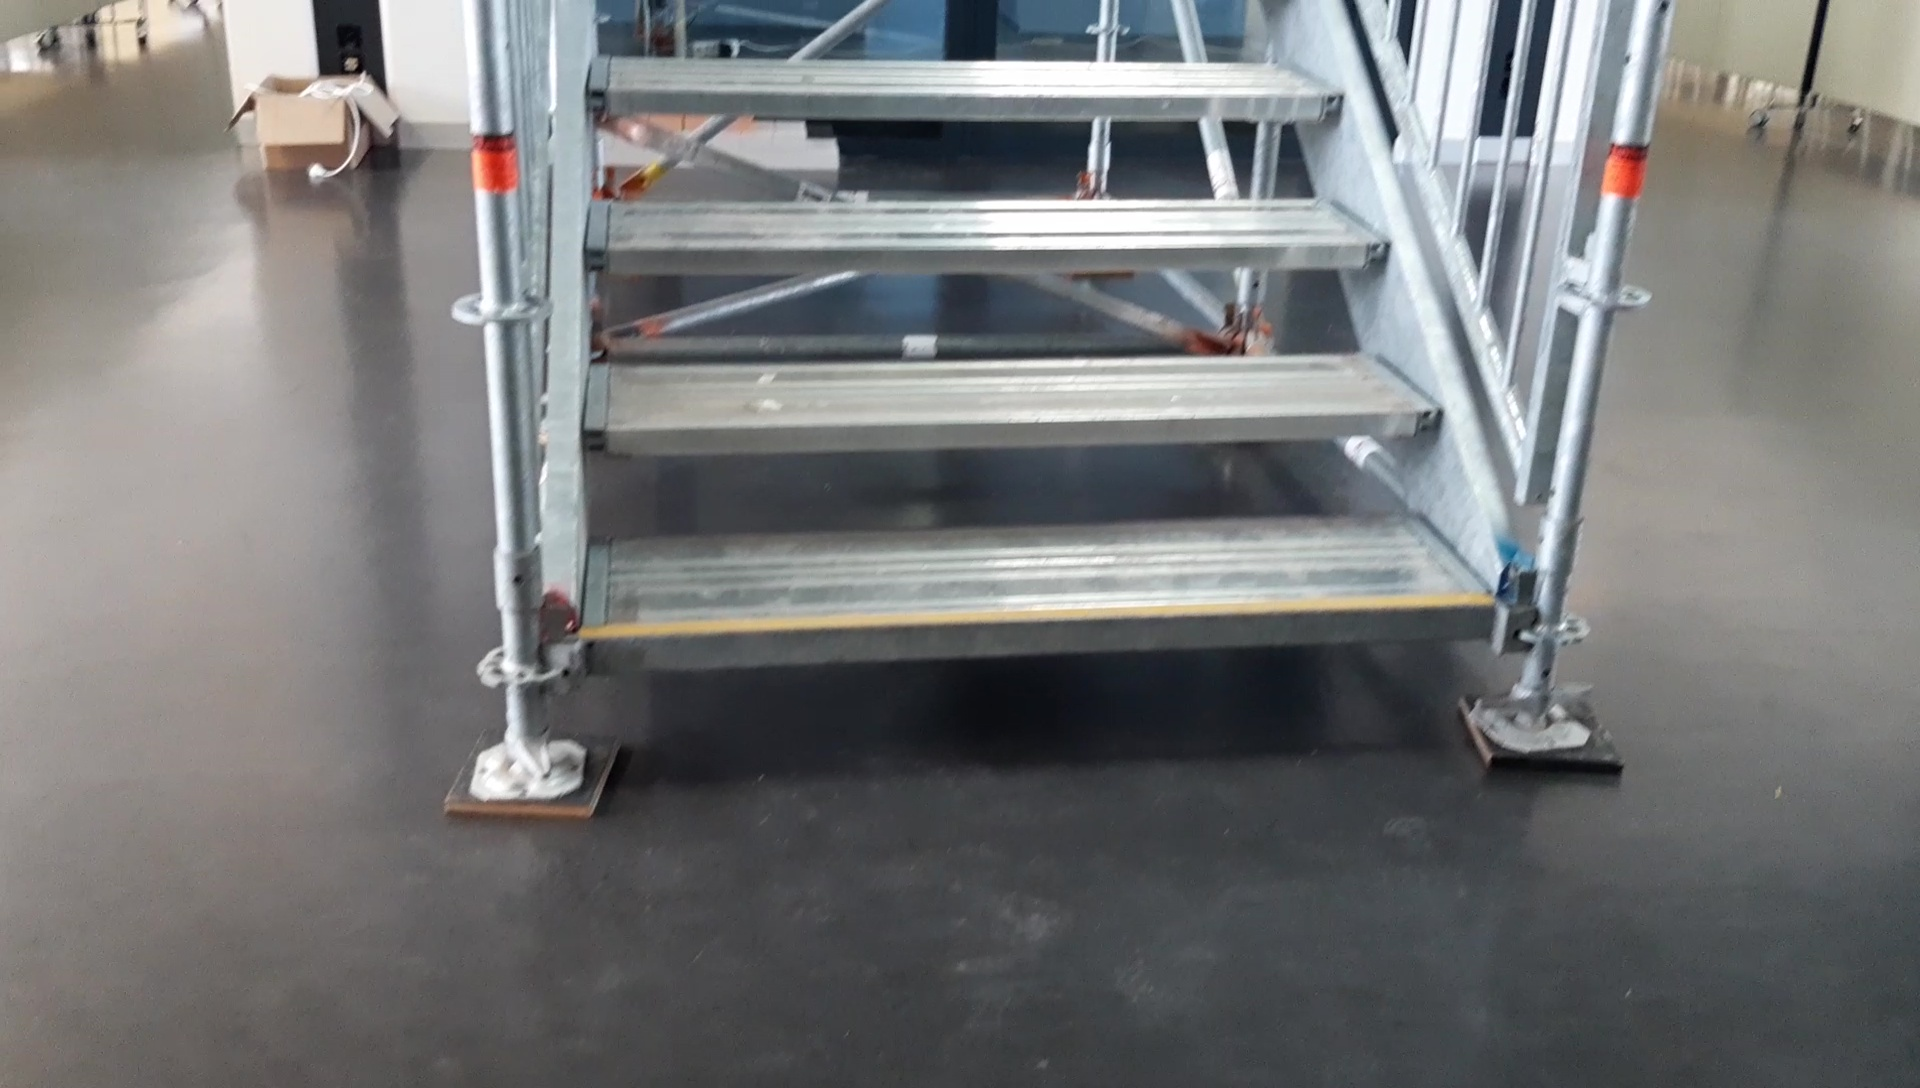brick: (804, 137, 837, 165), (773, 146, 800, 167), (775, 123, 799, 142)
edge: (578, 600, 1498, 667), (582, 408, 1443, 450), (580, 243, 1389, 274), (583, 86, 1342, 119)
stairs: (440, 0, 1625, 814)
